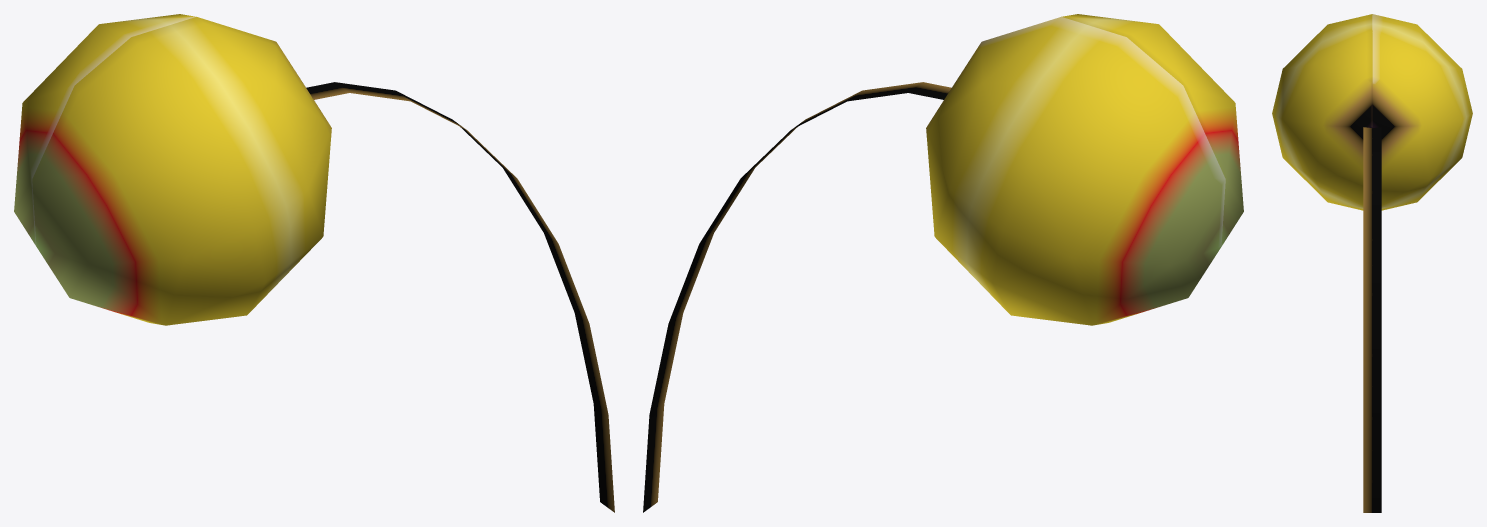
Rendered from eyeball.fbx.
The picture shows the model from 3 angles, left to right: view 1: azimuth 30°, elevation 25°; view 2: azimuth 150°, elevation 25°; view 3: azimuth 270°, elevation 25°; orthographic projection. The views are drawn at different scales.
Parts seen in each view (by area): view 1: Sphere, Tube; view 2: Sphere, Tube; view 3: Sphere, Tube.
Part boxes in pixels (<box>): Sphere: <box>14,14,331,325</box>; Tube: <box>306,82,614,512</box>; Sphere: <box>926,14,1243,325</box>; Tube: <box>643,82,951,512</box>; Sphere: <box>1272,14,1472,210</box>; Tube: <box>1363,127,1381,512</box>.
Bounding box in the file's own units: 273 × 268 × 135.
1 material, 1 textured.
